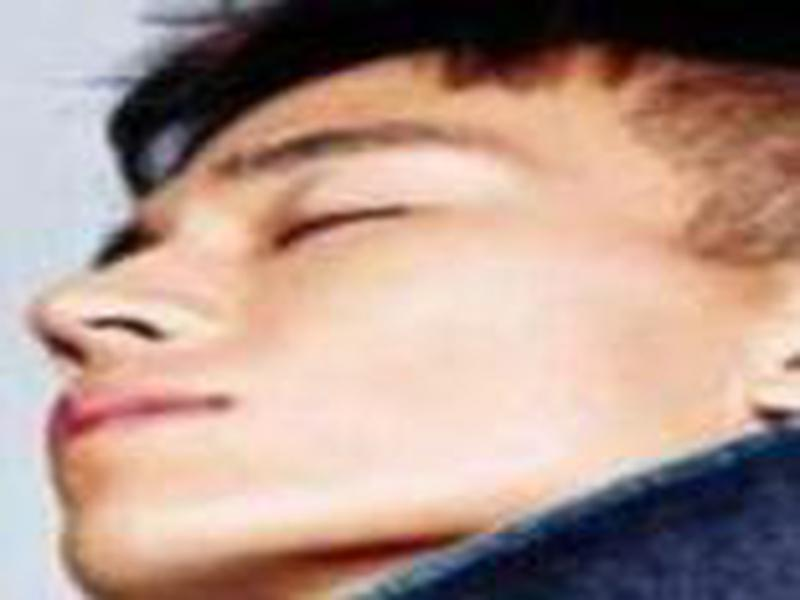without_mask: (17, 65, 772, 589)
